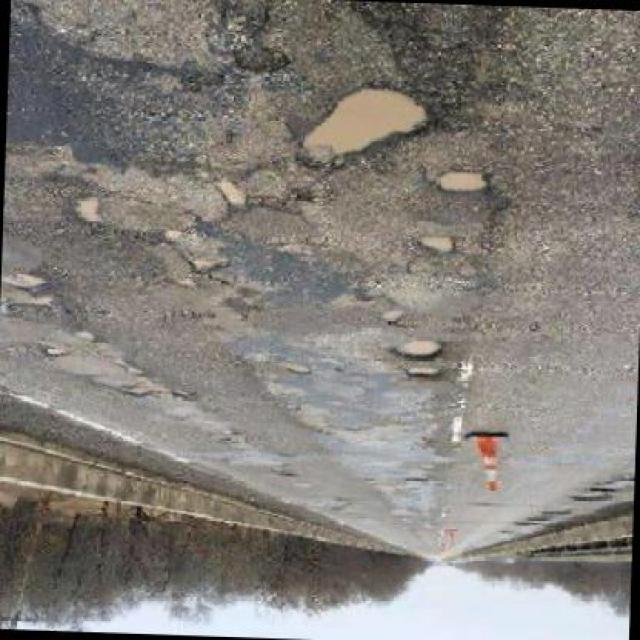pothole1: (298, 84, 437, 176), (220, 0, 298, 77), (99, 375, 195, 402), (432, 168, 494, 198), (390, 335, 448, 363), (213, 177, 250, 212), (71, 192, 107, 226), (416, 235, 459, 257), (3, 275, 52, 294), (188, 258, 230, 277), (406, 367, 445, 385), (284, 364, 316, 379), (41, 344, 68, 361), (18, 297, 56, 309), (163, 229, 189, 246), (74, 328, 101, 344)
